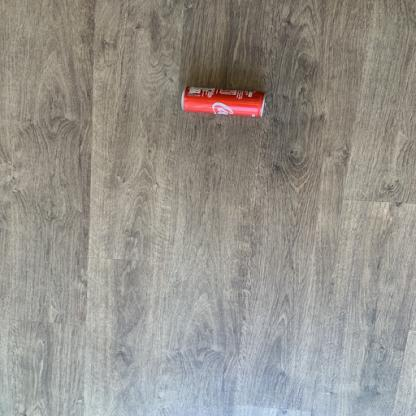trash: (162, 83, 286, 130)
